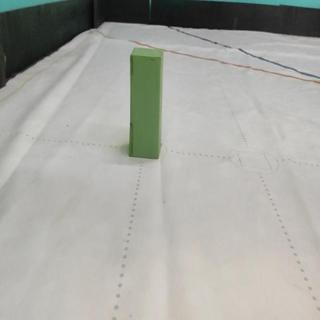greenbox: (127, 43, 164, 160)
